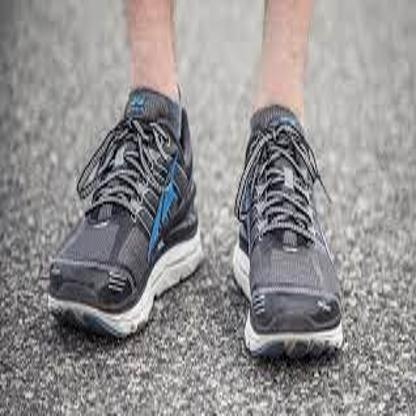not trash: (41, 90, 209, 340), (232, 101, 348, 365)
